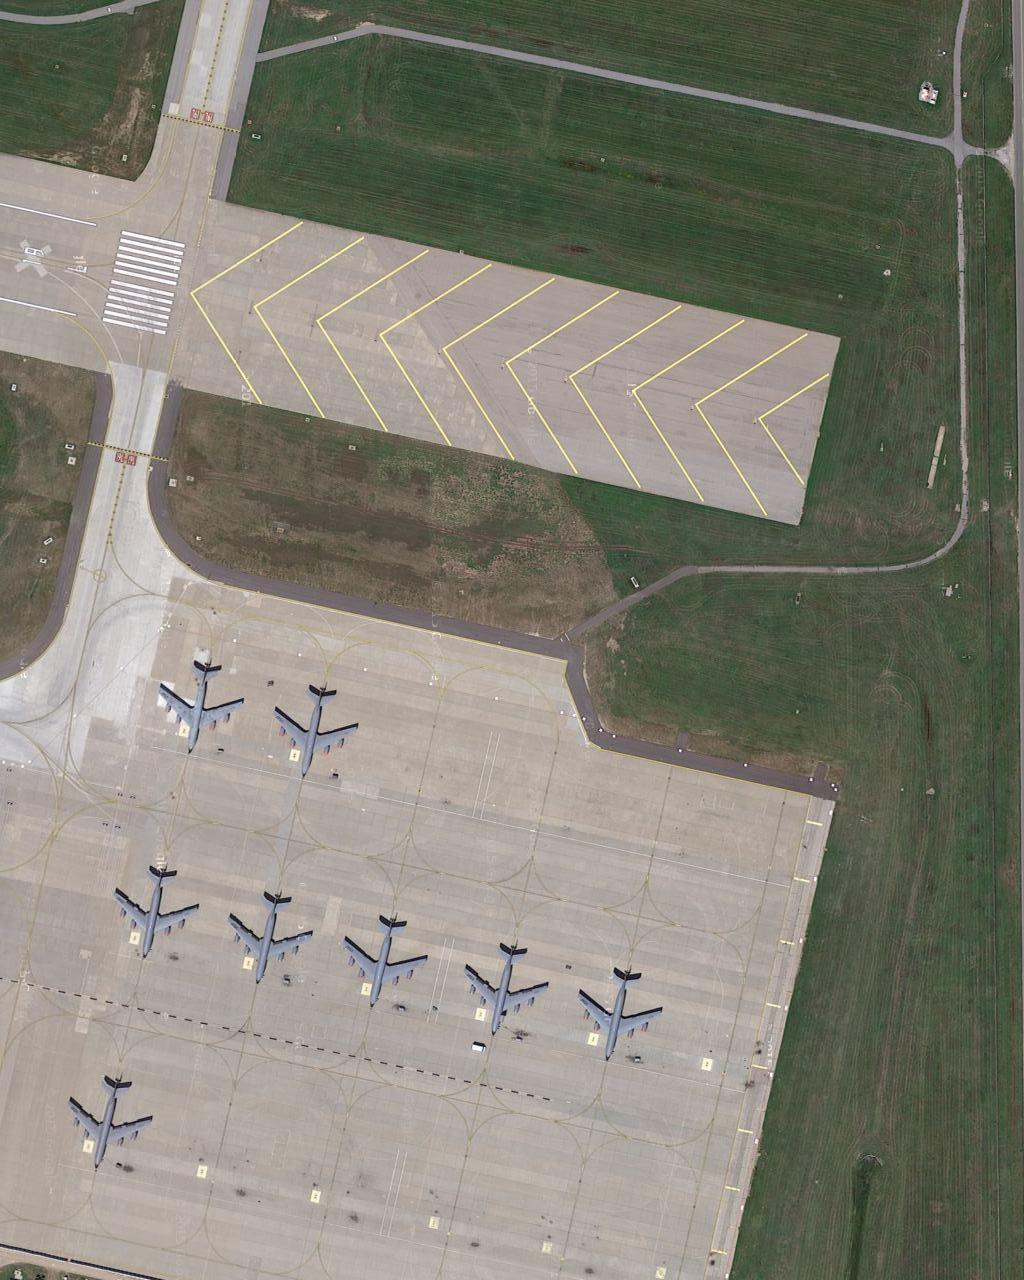KC-135: (266, 674, 368, 781), (153, 653, 253, 757), (62, 1073, 160, 1176), (573, 962, 669, 1067), (108, 858, 206, 959), (224, 885, 317, 991), (338, 911, 436, 1010), (464, 936, 558, 1037)
